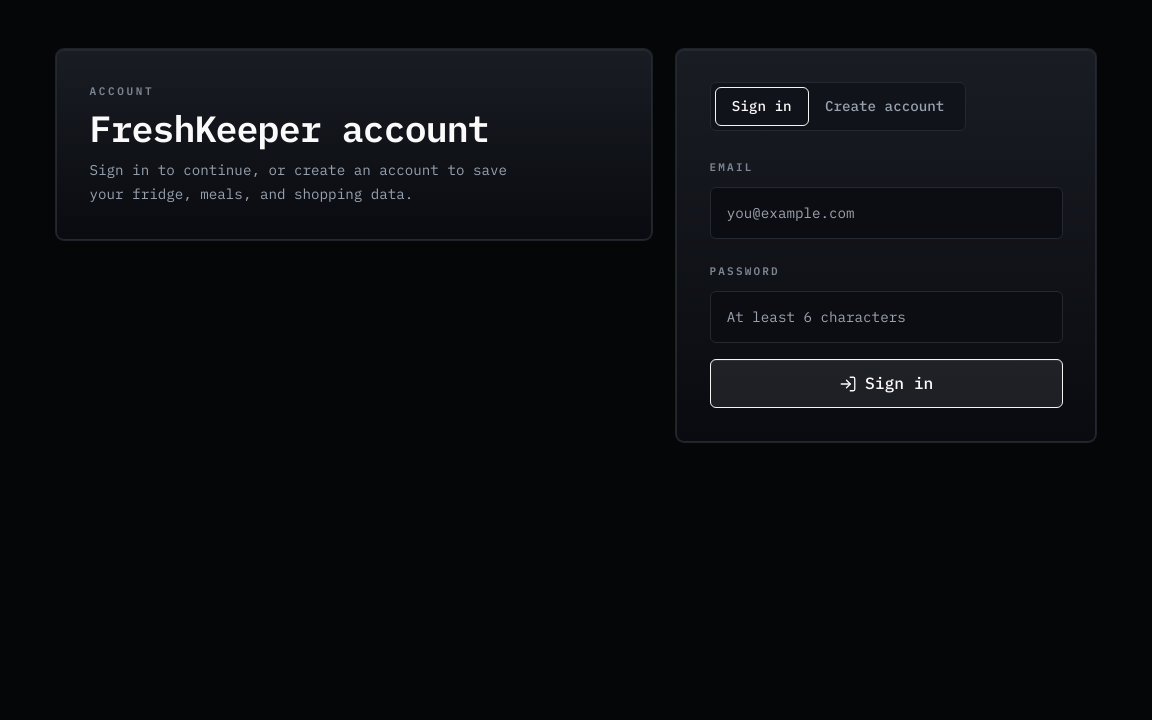
Test: AuthScreen › requires display name when creating an account
Click the button "Create account" at (885,107), box [809,87,960,126]
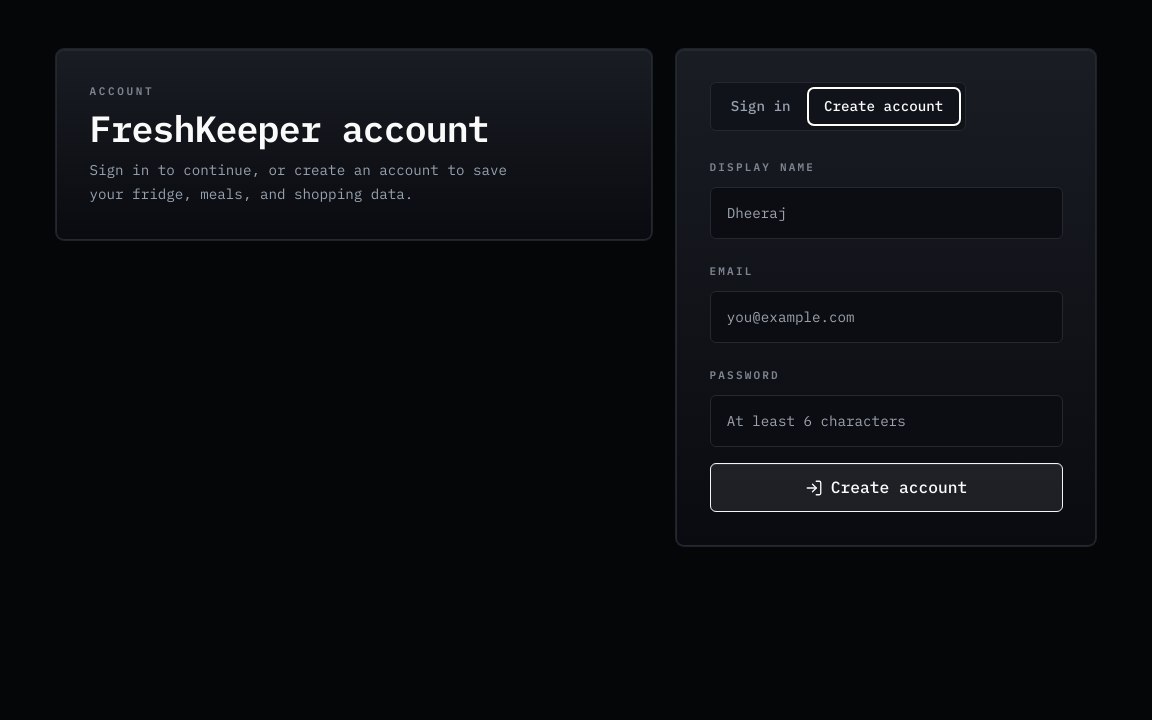
Type "new@example.com" into the field labelled "Email" at (886,317), box [710,291,1062,343]
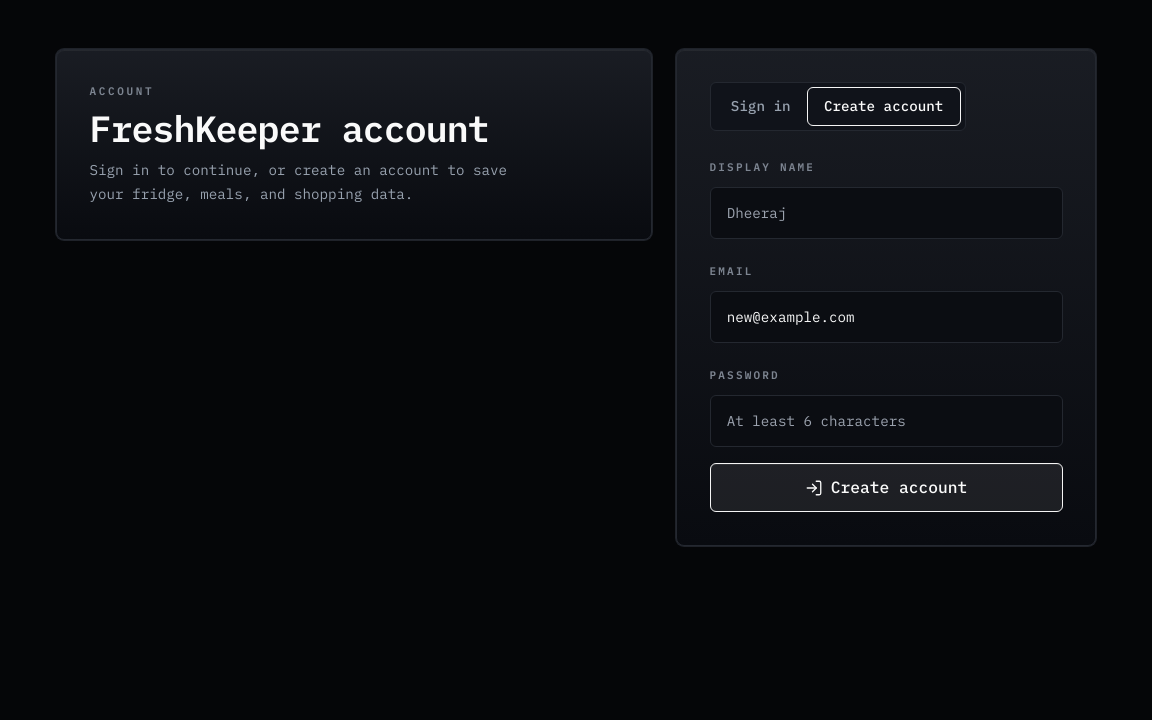
Type "supersecret" into the password field labelled "Password" at (886,421), box [710,395,1062,447]
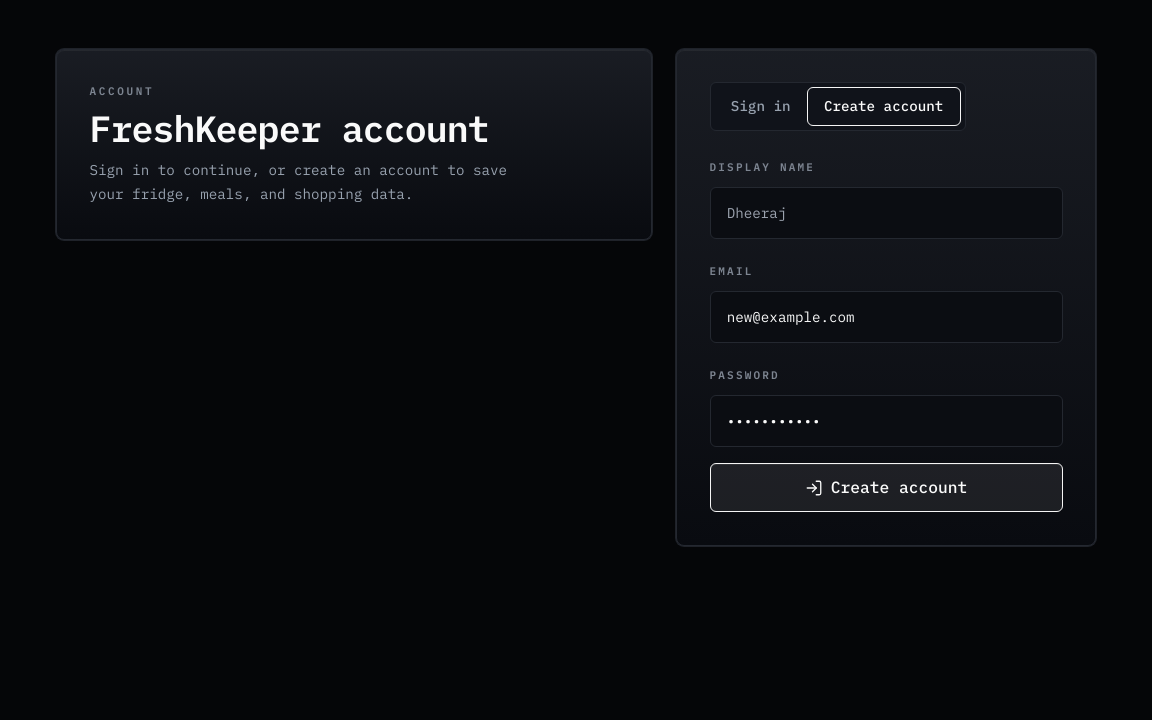
Click the button "Create account" below "Password" at (886,488), box [710,463,1062,512]
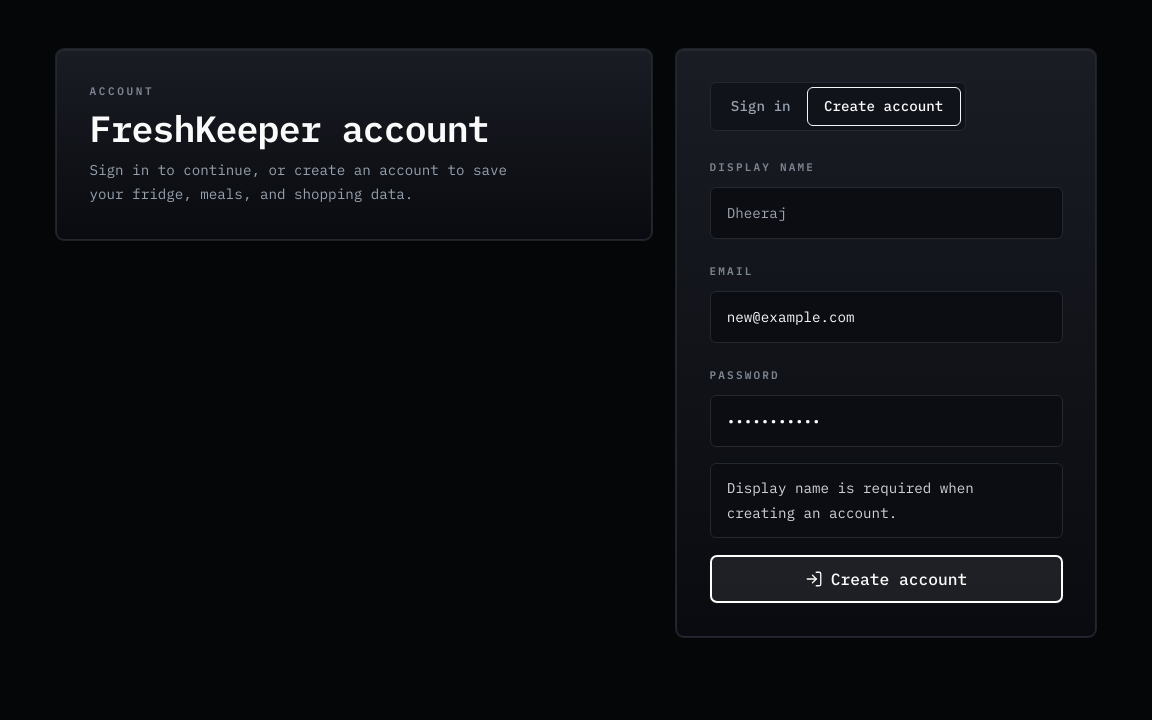
Expected: the text "Display name is required when creating an account." is shown, [710,463,1062,538]
